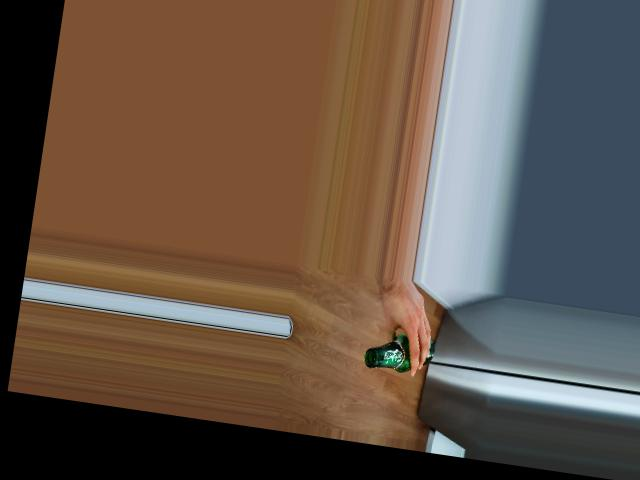beer: (362, 328, 435, 376)
